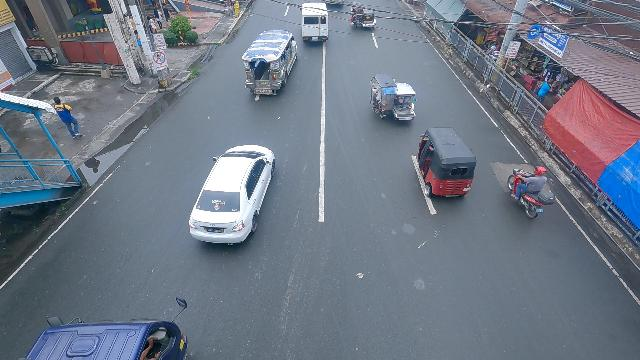car: (184, 143, 277, 247)
jeepney: (242, 28, 298, 99)
motorcycle: (505, 164, 555, 222)
van: (301, 2, 330, 45)
